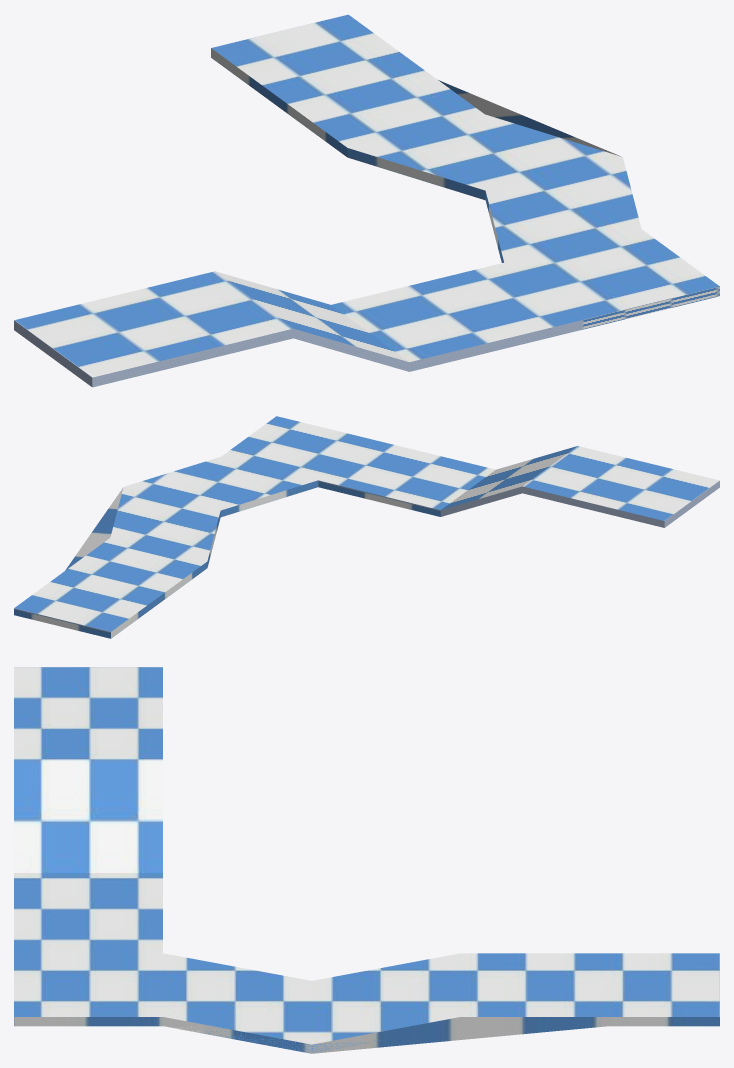
File: SWB-Lvl_1-1.fbx
3 views of the same model, one above another, from view 1: azimuth 30°, elevation 25°; view 2: azimuth 150°, elevation 25°; view 3: azimuth 270°, elevation 25° (orthographic). The views are drawn at different scales.
Parts seen in each view (by area): view 1: Cube; view 2: Cube; view 3: Cube.
Part boxes in pixels (<box>): Cube: <box>14,14,719,387</box>; Cube: <box>14,416,719,638</box>; Cube: <box>14,667,719,1053</box>.
Bounding box in the file's own units: 2744 × 273 × 2569.
